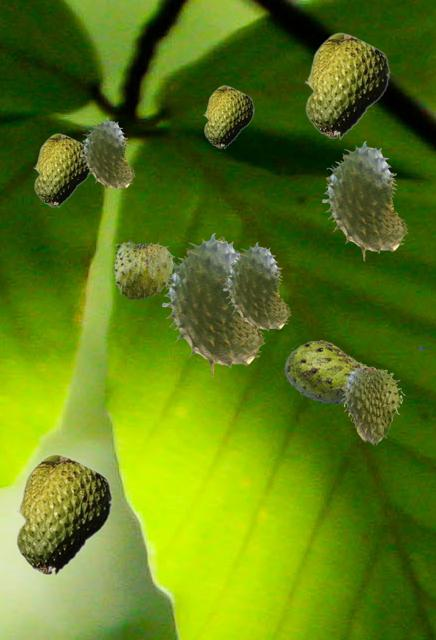guyabano: (162, 233, 264, 376), (14, 453, 112, 576), (322, 141, 407, 260), (304, 32, 389, 139), (223, 242, 290, 336), (284, 340, 367, 403), (341, 366, 404, 444), (33, 133, 89, 207), (80, 117, 134, 193), (112, 239, 175, 299), (203, 85, 253, 148)
